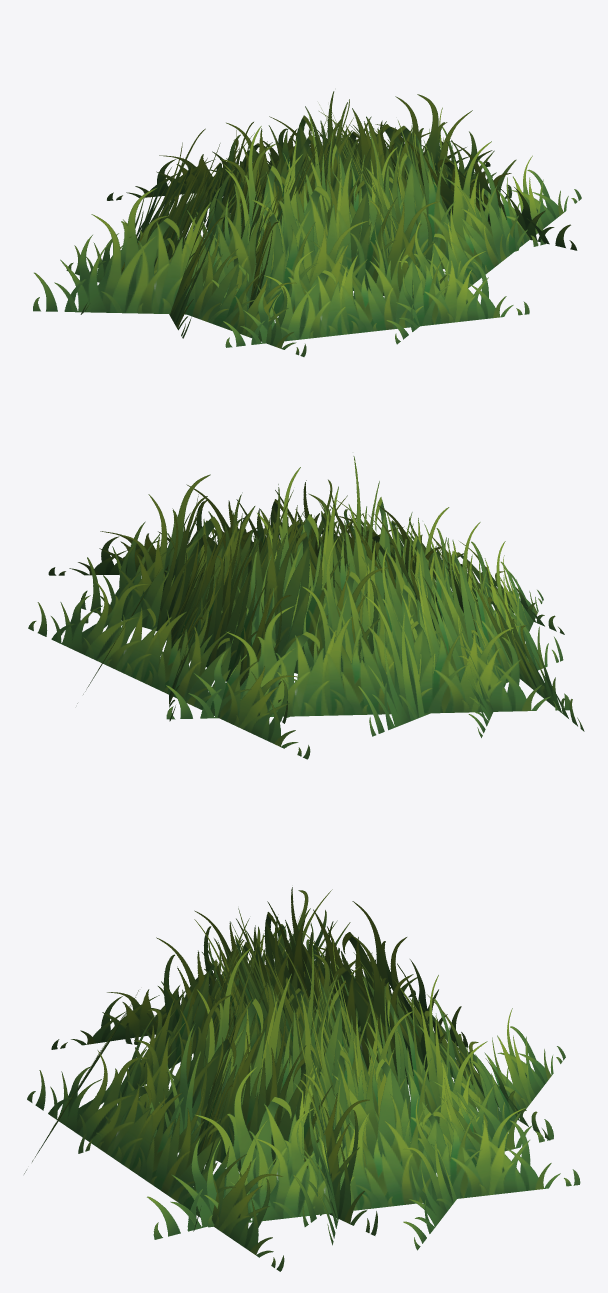
File: Large_Grass_M.fbx
The picture shows the model from 3 angles, top to bottom: view 1: azimuth 30°, elevation 25°; view 2: azimuth 150°, elevation 25°; view 3: azimuth 270°, elevation 25°; orthographic projection. The views are drawn at different scales.
Parts seen in each view (by area): view 1: Large_Grass_M; view 2: Large_Grass_M; view 3: Large_Grass_M.
Part boxes in pixels (x1,y1,x2,y2): Large_Grass_M: (33, 91, 581, 356); Large_Grass_M: (28, 456, 584, 759); Large_Grass_M: (24, 887, 580, 1271).
Bounding box in the file's own units: 1.49 × 0.5402 × 1.11.
